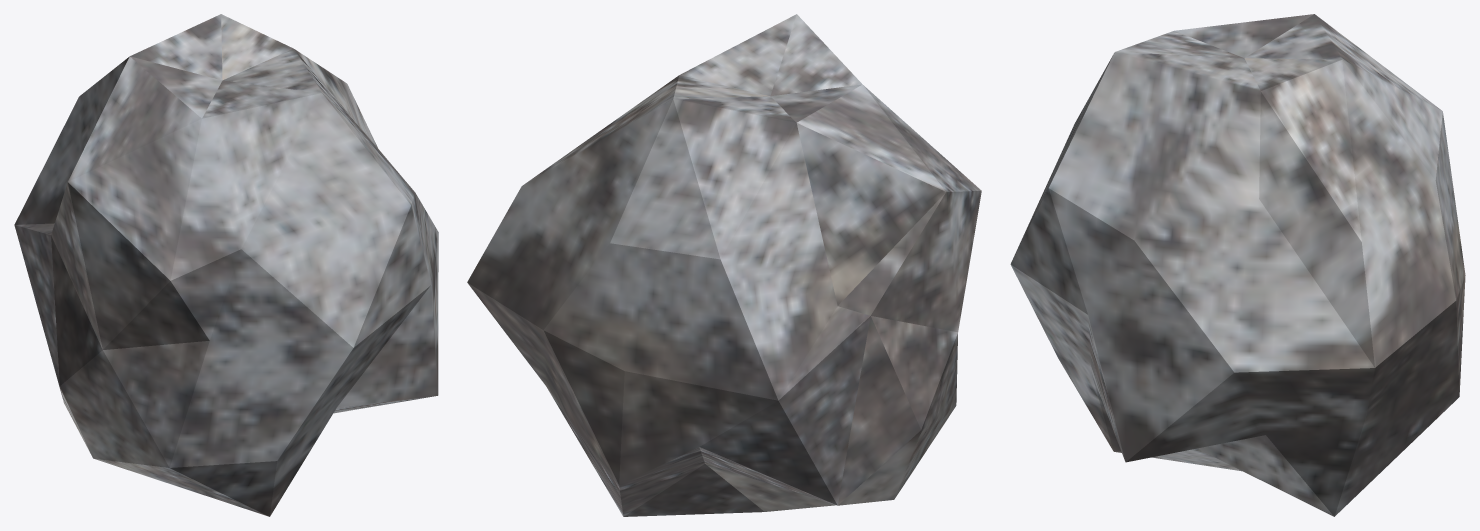
File: Asteroid_Small_003.fbx
3 views of the same model, side by side, from view 1: azimuth 30°, elevation 25°; view 2: azimuth 150°, elevation 25°; view 3: azimuth 270°, elevation 25° (orthographic). The views are drawn at different scales.
Visible parts, largest first — view 1: Asteroid_Small_003; view 2: Asteroid_Small_003; view 3: Asteroid_Small_003.
Part boxes in pixels (left/top/right/bottom): Asteroid_Small_003: left=14, top=14, right=438, bottom=516; Asteroid_Small_003: left=467, top=14, right=981, bottom=516; Asteroid_Small_003: left=1010, top=14, right=1465, bottom=516.
Bounding box in the file's own units: 9.84 × 9.6 × 10.18.
1 material, 1 textured.
